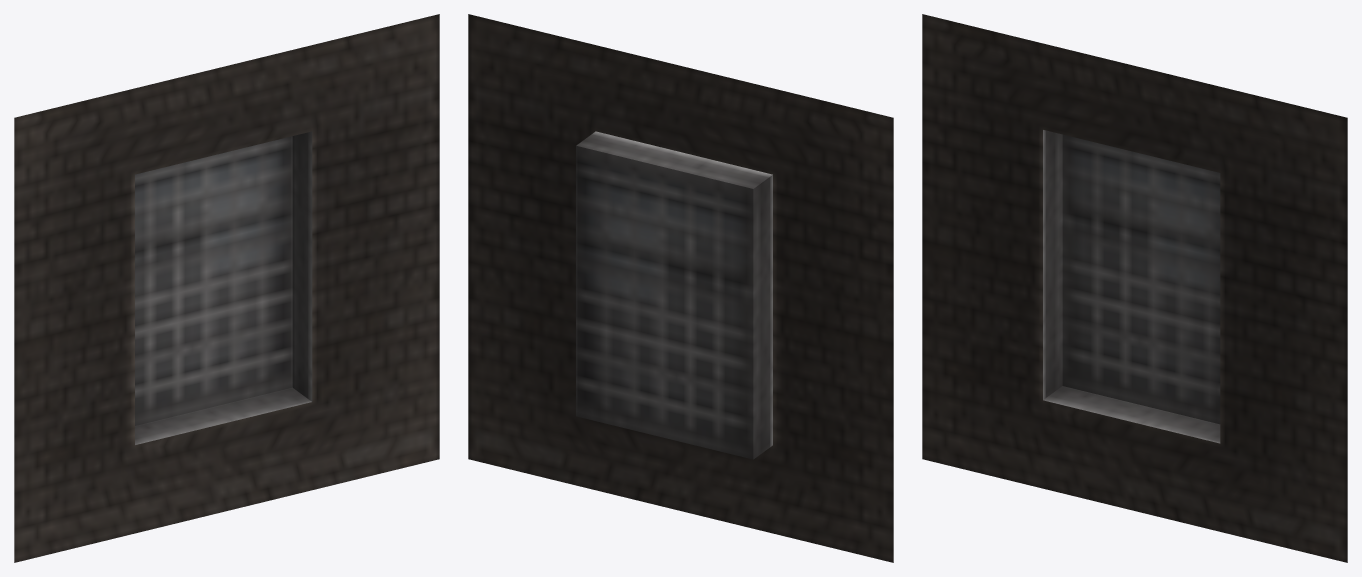
The model's file is B6_BricksWindow.FBX.
The picture shows the model from 3 angles, left to right: view 1: azimuth 30°, elevation 25°; view 2: azimuth 150°, elevation 25°; view 3: azimuth 330°, elevation 25°; orthographic projection.
Visible parts, largest first — view 1: B6_BricksWindow; view 2: B6_BricksWindow; view 3: B6_BricksWindow.
Part boxes in pixels (left/top/right/bottom): B6_BricksWindow: left=14, top=14, right=439, bottom=562; B6_BricksWindow: left=468, top=14, right=893, bottom=562; B6_BricksWindow: left=922, top=14, right=1347, bottom=562.
Bounding box in the file's own units: 4 × 4 × 0.3196.
